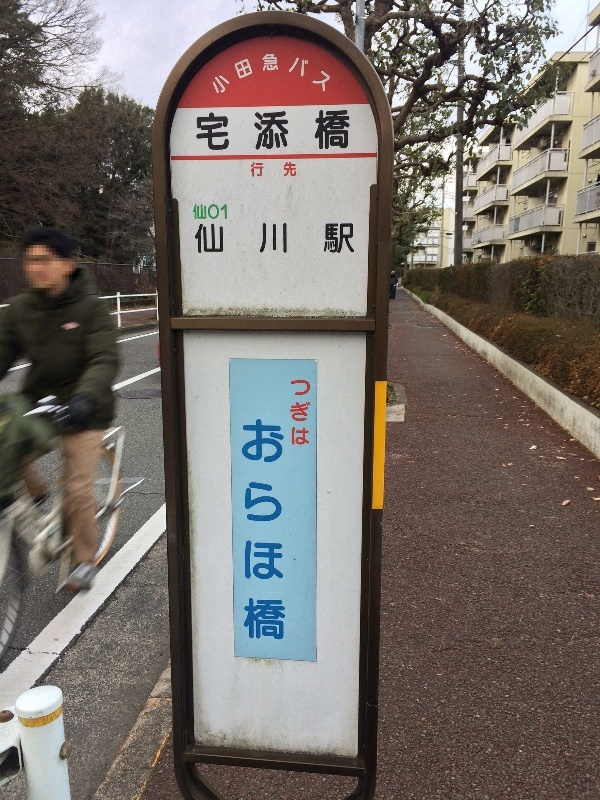text: (257, 417, 272, 641), (242, 417, 256, 641), (273, 417, 285, 641), (290, 380, 304, 445), (225, 49, 240, 94), (241, 49, 256, 94), (257, 49, 272, 94), (273, 49, 288, 94), (289, 49, 304, 94), (305, 49, 320, 94), (209, 109, 224, 151), (225, 109, 240, 151), (241, 109, 256, 151), (257, 109, 272, 151), (273, 109, 288, 151), (289, 109, 304, 151), (305, 109, 320, 151), (321, 109, 336, 151), (337, 109, 351, 151), (209, 223, 224, 255), (225, 223, 240, 255), (241, 223, 256, 255), (257, 223, 272, 255), (273, 223, 288, 255), (289, 223, 304, 255), (305, 223, 320, 255), (321, 223, 336, 255), (337, 223, 352, 255), (197, 109, 208, 151), (305, 380, 312, 445), (214, 49, 224, 94), (321, 49, 331, 94), (195, 223, 208, 255), (193, 204, 208, 220), (209, 204, 224, 220), (257, 162, 272, 177), (273, 162, 288, 177), (289, 162, 297, 177), (251, 162, 256, 177), (353, 223, 355, 255), (225, 204, 227, 220)
